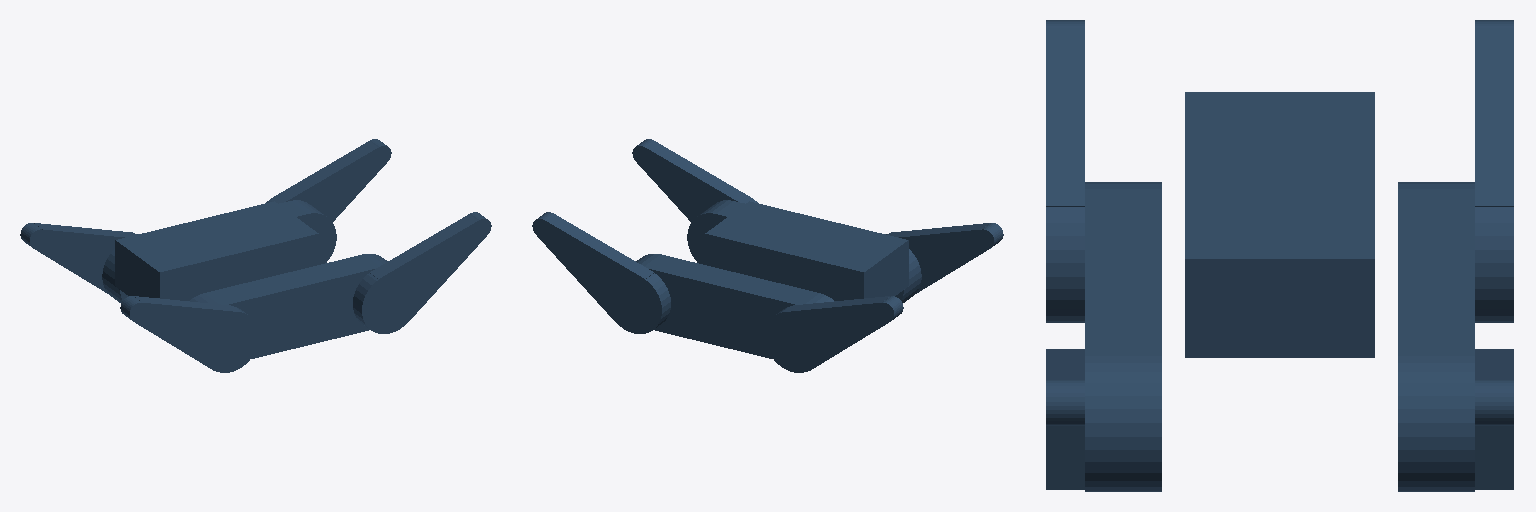
robot.urdf — lab_tracked:
<?xml version='1.0' encoding='utf-8'?>
<robot name="lab_tracked">
  <link name="base_footprint" />
  <joint name="footprint_fixed" type="fixed">
    <parent link="base_footprint" />
    <child link="base_link" />
    <origin xyz="0 0 .07192" rpy="0 0 0" />
  </joint>
  <link name="base_link">
    <inertial>
      <origin xyz="-0.122 0.0 0.118" rpy="1.5708 0.0 0.0" />
      <mass value="13.14" />
      <inertia ixx="0.10019" ixy="0" ixz="0" iyy="0.345043" iyz="0" izz="0.302044" />
    </inertial>
    <visual name="base_link_visual">
      <origin xyz="-0.122 0.0 0.118" rpy="0.0 0.0 0.0" />
      <geometry>
        <box size="0.50017 0.24093 0.139" />
      </geometry>
      <material name="base_link_visual_color">
        <color rgba=".25 .35 .45 1" />
      </material>
    </visual>
    <collision name="base_link_collision">
      <origin xyz="-0.122 0.0 0.118" rpy="0.0 0.0 0.0" />
      <geometry>
        <box size="0.50017 0.24093 0.139" />
      </geometry>
    </collision>
  </link>
  <link name="left_track">
    <inertial>
      <origin xyz="0.0 0.0 0.0141" rpy="0.0 0.0 0.0" />
      <mass value="6.06" />
      <inertia ixx="0.002731" ixy="0" ixz="0" iyy="0.032554" iyz="1.5e-05" izz="0.031391" />
    </inertial>
    <visual name="left_track_visual">
      <origin xyz="0.0 0.0 0.01855" rpy="1.5708 2.220446049250313e-16 1.5708" />
      <geometry>
        <box size="0.09728 0.18094 0.5" />
      </geometry>
      <material name="left_track_visual_color">
        <color rgba=".25 .35 .45 1" />
      </material>
    </visual>
    <visual name="left_track_visual_1">
      <origin xyz="0.25 0.0 0.01855" rpy="1.5708 0.0 0.0" />
      <geometry>
        <cylinder radius="0.09047" length="0.09728" />
      </geometry>
      <material name="left_track_visual_1_color">
        <color rgba=".25 .35 .45 1" />
      </material>
    </visual>
    <visual name="left_track_visual_2">
      <origin xyz="-0.25 0.0 0.01855" rpy="1.5708 0.0 0.0" />
      <geometry>
        <cylinder radius="0.09047" length="0.09728" />
      </geometry>
      <material name="left_track_visual_2_color">
        <color rgba=".25 .35 .45 1" />
      </material>
    </visual>
    <collision name="left_track_collision">
      <origin xyz="0.0 0.0 0.01855" rpy="1.5708 2.220446049250313e-16 1.5708" />
      <geometry>
        <box size="0.09728 0.18094 0.5" />
      </geometry>
    </collision>
    <collision name="left_track_collision_1">
      <origin xyz="0.25 0.0 0.01855" rpy="1.5708 0.0 0.0" />
      <geometry>
        <cylinder radius="0.09047" length="0.09728" />
      </geometry>
    </collision>
    <collision name="left_track_collision_2">
      <origin xyz="-0.25 0.0 0.01855" rpy="1.5708 0.0 0.0" />
      <geometry>
        <cylinder radius="0.09047" length="0.09728" />
      </geometry>
    </collision>
  </link>
  <link name="right_track">
    <inertial>
      <origin xyz="0.0 0.0 0.0141" rpy="0.0 0.0 0.0" />
      <mass value="6.06" />
      <inertia ixx="0.002731" ixy="0" ixz="0" iyy="0.032554" iyz="1.5e-05" izz="0.031391" />
    </inertial>
    <visual name="right_track_visual">
      <origin xyz="0.0 0.0 0.01855" rpy="1.5708 2.220446049250313e-16 1.5708" />
      <geometry>
        <box size="0.09728 0.18094 0.5" />
      </geometry>
      <material name="right_track_visual_color">
        <color rgba=".25 .35 .45 1" />
      </material>
    </visual>
    <visual name="right_track_visual_1">
      <origin xyz="0.25 0.0 0.01855" rpy="1.5708 0.0 0.0" />
      <geometry>
        <cylinder radius="0.09047" length="0.09728" />
      </geometry>
      <material name="right_track_visual_1_color">
        <color rgba=".25 .35 .45 1" />
      </material>
    </visual>
    <visual name="right_track_visual_2">
      <origin xyz="-0.25 0.0 0.01855" rpy="1.5708 0.0 0.0" />
      <geometry>
        <cylinder radius="0.09047" length="0.09728" />
      </geometry>
      <material name="right_track_visual_2_color">
        <color rgba=".25 .35 .45 1" />
      </material>
    </visual>
    <collision name="right_track_collision">
      <origin xyz="0.0 0.0 0.01855" rpy="1.5708 2.220446049250313e-16 1.5708" />
      <geometry>
        <box size="0.09728 0.18094 0.5" />
      </geometry>
    </collision>
    <collision name="right_track_collision_1">
      <origin xyz="0.25 0.0 0.01855" rpy="1.5708 0.0 0.0" />
      <geometry>
        <cylinder radius="0.09047" length="0.09728" />
      </geometry>
    </collision>
    <collision name="right_track_collision_2">
      <origin xyz="-0.25 0.0 0.01855" rpy="1.5708 0.0 0.0" />
      <geometry>
        <cylinder radius="0.09047" length="0.09728" />
      </geometry>
    </collision>
  </link>
  <link name="front_left_flipper">
    <inertial>
      <origin xyz="0.08 0.0 0.0" rpy="0.0 0.0 0.0" />
      <mass value="0.75" />
      <inertia ixx="0.0017491" ixy="2.8512e-07" ixz="0.0018277" iyy="0.012277" iyz="-3.6288e-07" izz="0.010941" />
    </inertial>
    <visual name="front_left_flipper_visual_large_wheel_visual">
      <origin xyz="0.0 0.0 0.0" rpy="1.5708 0.0 0.0" />
      <geometry>
        <cylinder radius="0.089" length="0.04981" />
      </geometry>
      <material name="front_left_flipper_visual_large_wheel_visual_color">
        <color rgba=".25 .35 .45 1" />
      </material>
    </visual>
    <visual name="front_left_flipper_visual_small_wheel_visual_1">
      <origin xyz="0.33 0.0 0.0" rpy="1.5708 0.0 0.0" />
      <geometry>
        <cylinder radius="0.029" length="0.04981" />
      </geometry>
      <material name="front_left_flipper_visual_small_wheel_visual_1_color">
        <color rgba=".25 .35 .45 1" />
      </material>
    </visual>
    <visual name="front_left_flipper_visual_top_bar_visual_2">
      <origin xyz="0.165 0.0 0.0325" rpy="0.0 0.18416199999999994 0.0" />
      <geometry>
        <box size="0.33 0.04981 0.055" />
      </geometry>
      <material name="front_left_flipper_visual_top_bar_visual_2_color">
        <color rgba=".25 .35 .45 1" />
      </material>
    </visual>
    <visual name="front_left_flipper_visual_bottom_bar_visual_3">
      <origin xyz="0.165 0.0 -0.0325" rpy="0.0 -0.18416199999999994 0.0" />
      <geometry>
        <box size="0.33 0.04981 0.055" />
      </geometry>
      <material name="front_left_flipper_visual_bottom_bar_visual_3_color">
        <color rgba=".25 .35 .45 1" />
      </material>
    </visual>
    <visual name="front_left_flipper_visual_middle_bar_visual_4">
      <origin xyz="0.166 0.0 0.004" rpy="0.0 -0.020000000000000018 0.0" />
      <geometry>
        <box size="0.2 0.04981 0.07" />
      </geometry>
      <material name="front_left_flipper_visual_middle_bar_visual_4_color">
        <color rgba=".25 .35 .45 1" />
      </material>
    </visual>
    <collision name="front_left_flipper_collision_large_wheel_collision">
      <origin xyz="0.0 0.0 0.0" rpy="1.5708 0.0 0.0" />
      <geometry>
        <cylinder radius="0.089" length="0.04981" />
      </geometry>
    </collision>
    <collision name="front_left_flipper_collision_small_wheel_collision_1">
      <origin xyz="0.33 0.0 0.0" rpy="1.5708 0.0 0.0" />
      <geometry>
        <cylinder radius="0.029" length="0.04981" />
      </geometry>
    </collision>
    <collision name="front_left_flipper_collision_top_bar_collision_2">
      <origin xyz="0.165 0.0 0.0325" rpy="0.0 0.18416199999999994 0.0" />
      <geometry>
        <box size="0.33 0.04981 0.055" />
      </geometry>
    </collision>
    <collision name="front_left_flipper_collision_bottom_bar_collision_3">
      <origin xyz="0.165 0.0 -0.0325" rpy="0.0 -0.18416199999999994 0.0" />
      <geometry>
        <box size="0.33 0.04981 0.055" />
      </geometry>
    </collision>
    <collision name="front_left_flipper_collision_middle_bar_collision_4">
      <origin xyz="0.166 0.0 0.004" rpy="0.0 -0.020000000000000018 0.0" />
      <geometry>
        <box size="0.2 0.04981 0.07" />
      </geometry>
    </collision>
  </link>
  <link name="rear_left_flipper">
    <inertial>
      <origin xyz="0.08 0.0 0.0" rpy="0.0 0.0 0.0" />
      <mass value="0.75" />
      <inertia ixx="0.0017491" ixy="2.8512e-07" ixz="0.0018277" iyy="0.012277" iyz="-3.6288e-07" izz="0.010941" />
    </inertial>
    <visual name="rear_left_flipper_visual_large_wheel_visual">
      <origin xyz="0.0 0.0 0.0" rpy="1.5708 0.0 0.0" />
      <geometry>
        <cylinder radius="0.089" length="0.04981" />
      </geometry>
      <material name="rear_left_flipper_visual_large_wheel_visual_color">
        <color rgba=".25 .35 .45 1" />
      </material>
    </visual>
    <visual name="rear_left_flipper_visual_small_wheel_visual_1">
      <origin xyz="0.33 0.0 0.0" rpy="1.5708 0.0 0.0" />
      <geometry>
        <cylinder radius="0.029" length="0.04981" />
      </geometry>
      <material name="rear_left_flipper_visual_small_wheel_visual_1_color">
        <color rgba=".25 .35 .45 1" />
      </material>
    </visual>
    <visual name="rear_left_flipper_visual_top_bar_visual_2">
      <origin xyz="0.165 0.0 0.0325" rpy="0.0 0.18416199999999994 0.0" />
      <geometry>
        <box size="0.33 0.04981 0.055" />
      </geometry>
      <material name="rear_left_flipper_visual_top_bar_visual_2_color">
        <color rgba=".25 .35 .45 1" />
      </material>
    </visual>
    <visual name="rear_left_flipper_visual_bottom_bar_visual_3">
      <origin xyz="0.165 0.0 -0.0325" rpy="0.0 -0.18416199999999994 0.0" />
      <geometry>
        <box size="0.33 0.04981 0.055" />
      </geometry>
      <material name="rear_left_flipper_visual_bottom_bar_visual_3_color">
        <color rgba=".25 .35 .45 1" />
      </material>
    </visual>
    <visual name="rear_left_flipper_visual_middle_bar_visual_4">
      <origin xyz="0.166 0.0 0.004" rpy="0.0 -0.020000000000000018 0.0" />
      <geometry>
        <box size="0.2 0.04981 0.07" />
      </geometry>
      <material name="rear_left_flipper_visual_middle_bar_visual_4_color">
        <color rgba=".25 .35 .45 1" />
      </material>
    </visual>
    <collision name="rear_left_flipper_collision_large_wheel_collision">
      <origin xyz="0.0 0.0 0.0" rpy="1.5708 0.0 0.0" />
      <geometry>
        <cylinder radius="0.089" length="0.04981" />
      </geometry>
    </collision>
    <collision name="rear_left_flipper_collision_small_wheel_collision_1">
      <origin xyz="0.33 0.0 0.0" rpy="1.5708 0.0 0.0" />
      <geometry>
        <cylinder radius="0.029" length="0.04981" />
      </geometry>
    </collision>
    <collision name="rear_left_flipper_collision_top_bar_collision_2">
      <origin xyz="0.165 0.0 0.0325" rpy="0.0 0.18416199999999994 0.0" />
      <geometry>
        <box size="0.33 0.04981 0.055" />
      </geometry>
    </collision>
    <collision name="rear_left_flipper_collision_bottom_bar_collision_3">
      <origin xyz="0.165 0.0 -0.0325" rpy="0.0 -0.18416199999999994 0.0" />
      <geometry>
        <box size="0.33 0.04981 0.055" />
      </geometry>
    </collision>
    <collision name="rear_left_flipper_collision_middle_bar_collision_4">
      <origin xyz="0.166 0.0 0.004" rpy="0.0 -0.020000000000000018 0.0" />
      <geometry>
        <box size="0.2 0.04981 0.07" />
      </geometry>
    </collision>
  </link>
  <link name="front_right_flipper">
    <inertial>
      <origin xyz="-0.08 0.0 0.0" rpy="0.0 0.0 0.0" />
      <mass value="0.75" />
      <inertia ixx="0.0017491" ixy="2.8512e-07" ixz="0.0018277" iyy="0.012277" iyz="-3.6288e-07" izz="0.010941" />
    </inertial>
    <visual name="front_right_flipper_visual_large_wheel_visual">
      <origin xyz="0.0 0.0 0.0" rpy="1.5708 0.0 0.0" />
      <geometry>
        <cylinder radius="0.089" length="0.04981" />
      </geometry>
      <material name="front_right_flipper_visual_large_wheel_visual_color">
        <color rgba=".25 .35 .45 1" />
      </material>
    </visual>
    <visual name="front_right_flipper_visual_small_wheel_visual_1">
      <origin xyz="-0.33 0.0 0.0" rpy="1.5708 0.0 0.0" />
      <geometry>
        <cylinder radius="0.029" length="0.04981" />
      </geometry>
      <material name="front_right_flipper_visual_small_wheel_visual_1_color">
        <color rgba=".25 .35 .45 1" />
      </material>
    </visual>
    <visual name="front_right_flipper_visual_top_bar_visual_2">
      <origin xyz="-0.165 0.0 0.0325" rpy="0.0 0.18416200000000016 -3.1415899999999994" />
      <geometry>
        <box size="0.33 0.04981 0.055" />
      </geometry>
      <material name="front_right_flipper_visual_top_bar_visual_2_color">
        <color rgba=".25 .35 .45 1" />
      </material>
    </visual>
    <visual name="front_right_flipper_visual_bottom_bar_visual_3">
      <origin xyz="-0.165 0.0 -0.0325" rpy="0.0 -0.18416199999999994 -3.1415899999999994" />
      <geometry>
        <box size="0.33 0.04981 0.055" />
      </geometry>
      <material name="front_right_flipper_visual_bottom_bar_visual_3_color">
        <color rgba=".25 .35 .45 1" />
      </material>
    </visual>
    <visual name="front_right_flipper_visual_middle_bar_visual_4">
      <origin xyz="-0.166 0.0 0.004" rpy="0.0 -0.019999999999999796 -3.1415899999999994" />
      <geometry>
        <box size="0.2 0.04981 0.07" />
      </geometry>
      <material name="front_right_flipper_visual_middle_bar_visual_4_color">
        <color rgba=".25 .35 .45 1" />
      </material>
    </visual>
    <collision name="front_right_flipper_collision_large_wheel_collision">
      <origin xyz="0.0 0.0 0.0" rpy="1.5708 0.0 0.0" />
      <geometry>
        <cylinder radius="0.089" length="0.04981" />
      </geometry>
    </collision>
    <collision name="front_right_flipper_collision_small_wheel_collision_1">
      <origin xyz="-0.33 0.0 0.0" rpy="1.5708 0.0 0.0" />
      <geometry>
        <cylinder radius="0.029" length="0.04981" />
      </geometry>
    </collision>
    <collision name="front_right_flipper_collision_top_bar_collision_2">
      <origin xyz="-0.165 0.0 0.0325" rpy="0.0 0.18416200000000016 -3.1415899999999994" />
      <geometry>
        <box size="0.33 0.04981 0.055" />
      </geometry>
    </collision>
    <collision name="front_right_flipper_collision_bottom_bar_collision_3">
      <origin xyz="-0.165 0.0 -0.0325" rpy="0.0 -0.18416199999999994 -3.1415899999999994" />
      <geometry>
        <box size="0.33 0.04981 0.055" />
      </geometry>
    </collision>
    <collision name="front_right_flipper_collision_middle_bar_collision_4">
      <origin xyz="-0.166 0.0 0.004" rpy="0.0 -0.019999999999999796 -3.1415899999999994" />
      <geometry>
        <box size="0.2 0.04981 0.07" />
      </geometry>
    </collision>
  </link>
  <link name="rear_right_flipper">
    <inertial>
      <origin xyz="-0.08 0.0 0.0" rpy="0.0 0.0 0.0" />
      <mass value="0.75" />
      <inertia ixx="0.0017491" ixy="2.8512e-07" ixz="0.0018277" iyy="0.012277" iyz="-3.6288e-07" izz="0.010941" />
    </inertial>
    <visual name="rear_right_flipper_visual_large_wheel_visual">
      <origin xyz="0.0 0.0 0.0" rpy="1.5708 0.0 0.0" />
      <geometry>
        <cylinder radius="0.089" length="0.04981" />
      </geometry>
      <material name="rear_right_flipper_visual_large_wheel_visual_color">
        <color rgba=".25 .35 .45 1" />
      </material>
    </visual>
    <visual name="rear_right_flipper_visual_small_wheel_visual_1">
      <origin xyz="-0.33 0.0 0.0" rpy="1.5708 0.0 0.0" />
      <geometry>
        <cylinder radius="0.029" length="0.04981" />
      </geometry>
      <material name="rear_right_flipper_visual_small_wheel_visual_1_color">
        <color rgba=".25 .35 .45 1" />
      </material>
    </visual>
    <visual name="rear_right_flipper_visual_top_bar_visual_2">
      <origin xyz="-0.165 0.0 0.0325" rpy="0.0 0.18416200000000016 -3.1415899999999994" />
      <geometry>
        <box size="0.33 0.04981 0.055" />
      </geometry>
      <material name="rear_right_flipper_visual_top_bar_visual_2_color">
        <color rgba=".25 .35 .45 1" />
      </material>
    </visual>
    <visual name="rear_right_flipper_visual_bottom_bar_visual_3">
      <origin xyz="-0.165 0.0 -0.0325" rpy="0.0 -0.18416199999999994 -3.1415899999999994" />
      <geometry>
        <box size="0.33 0.04981 0.055" />
      </geometry>
      <material name="rear_right_flipper_visual_bottom_bar_visual_3_color">
        <color rgba=".25 .35 .45 1" />
      </material>
    </visual>
    <visual name="rear_right_flipper_visual_middle_bar_visual_4">
      <origin xyz="-0.166 0.0 0.004" rpy="0.0 -0.019999999999999796 -3.1415899999999994" />
      <geometry>
        <box size="0.2 0.04981 0.07" />
      </geometry>
      <material name="rear_right_flipper_visual_middle_bar_visual_4_color">
        <color rgba=".25 .35 .45 1" />
      </material>
    </visual>
    <collision name="rear_right_flipper_collision_large_wheel_collision">
      <origin xyz="0.0 0.0 0.0" rpy="1.5708 0.0 0.0" />
      <geometry>
        <cylinder radius="0.089" length="0.04981" />
      </geometry>
    </collision>
    <collision name="rear_right_flipper_collision_small_wheel_collision_1">
      <origin xyz="-0.33 0.0 0.0" rpy="1.5708 0.0 0.0" />
      <geometry>
        <cylinder radius="0.029" length="0.04981" />
      </geometry>
    </collision>
    <collision name="rear_right_flipper_collision_top_bar_collision_2">
      <origin xyz="-0.165 0.0 0.0325" rpy="0.0 0.18416200000000016 -3.1415899999999994" />
      <geometry>
        <box size="0.33 0.04981 0.055" />
      </geometry>
    </collision>
    <collision name="rear_right_flipper_collision_bottom_bar_collision_3">
      <origin xyz="-0.165 0.0 -0.0325" rpy="0.0 -0.18416199999999994 -3.1415899999999994" />
      <geometry>
        <box size="0.33 0.04981 0.055" />
      </geometry>
    </collision>
    <collision name="rear_right_flipper_collision_middle_bar_collision_4">
      <origin xyz="-0.166 0.0 0.004" rpy="0.0 -0.019999999999999796 -3.1415899999999994" />
      <geometry>
        <box size="0.2 0.04981 0.07" />
      </geometry>
    </collision>
  </link>
  <joint name="left_track_j" type="fixed">
    <parent link="base_link" />
    <child link="left_track" />
    <origin xyz="0.0 0.1985 0.0" rpy="0.0 0.0 0.0" />
  </joint>
  <joint name="right_track_j" type="fixed">
    <parent link="base_link" />
    <child link="right_track" />
    <origin xyz="0.0 -0.1985 0.0" rpy="0.0 0.0 0.0" />
  </joint>
  <joint name="front_left_flipper_j" type="revolute">
    <parent link="left_track" />
    <child link="front_left_flipper" />
    <origin xyz="0.25 0.07350000000000001 0.0195" rpy="0.0 -0.5 0.0" />
    <axis xyz="0 1 0" />
    <limit lower="0" upper="0" effort="25" velocity="1" />
  </joint>
  <joint name="rear_left_flipper_j" type="revolute">
    <parent link="left_track" />
    <child link="rear_left_flipper" />
    <origin xyz="-0.25 0.07350000000000001 0.0195" rpy="3.14159 -0.5 3.14159" />
    <axis xyz="0 1 0" />
    <limit lower="0" upper="0" effort="25" velocity="1" />
  </joint>
  <joint name="front_right_flipper_j" type="revolute">
    <parent link="right_track" />
    <child link="front_right_flipper" />
    <origin xyz="0.25 -0.07350000000000001 0.0195" rpy="3.14159 0.5 3.14159" />
    <axis xyz="0 1 0" />
    <limit lower="0" upper="0" effort="25" velocity="1" />
  </joint>
  <joint name="rear_right_flipper_j" type="revolute">
    <parent link="right_track" />
    <child link="rear_right_flipper" />
    <origin xyz="-0.25 -0.07350000000000001 0.0195" rpy="0.0 0.5 0.0" />
    <axis xyz="0 1 0" />
    <limit lower="0" upper="0" effort="25" velocity="1" />
  </joint>
</robot>

--- What the picture shows (computed from the rendered views, not written in the file) ---
The picture shows the robot from 3 angles, left to right: view 1: azimuth 30°, elevation 25°; view 2: azimuth 150°, elevation 25°; view 3: azimuth 270°, elevation 25°; orthographic projection.
Robot: lab_tracked — 8 links, 7 joints (4 revolute, 3 fixed); root link base_footprint; default pose: all joints at 0.
Links seen in each view (by area): view 1: base_link, right_track, front_right_flipper, rear_right_flipper, front_left_flipper, rear_left_flipper, left_track; view 2: base_link, left_track, front_left_flipper, rear_left_flipper, front_right_flipper, rear_right_flipper, right_track; view 3: base_link, left_track, right_track, rear_left_flipper, rear_right_flipper, front_left_flipper, front_right_flipper.
Boxes of the visible links, bbox=[...] form: base_link: bbox=[115, 201, 318, 300]; right_track: bbox=[190, 254, 387, 358]; front_right_flipper: bbox=[353, 212, 491, 333]; rear_right_flipper: bbox=[120, 296, 258, 372]; front_left_flipper: bbox=[266, 139, 391, 221]; rear_left_flipper: bbox=[20, 223, 137, 293]; left_track: bbox=[102, 200, 336, 302]; base_link: bbox=[705, 201, 908, 300]; left_track: bbox=[636, 254, 833, 358]; front_left_flipper: bbox=[532, 212, 670, 333]; rear_left_flipper: bbox=[765, 296, 903, 372]; front_right_flipper: bbox=[632, 139, 757, 221]; rear_right_flipper: bbox=[886, 223, 1003, 293]; right_track: bbox=[687, 200, 921, 302]; base_link: bbox=[1185, 92, 1374, 357]; left_track: bbox=[1398, 182, 1474, 491]; right_track: bbox=[1085, 182, 1161, 491]; rear_left_flipper: bbox=[1475, 20, 1513, 322]; rear_right_flipper: bbox=[1046, 20, 1084, 322]; front_left_flipper: bbox=[1475, 349, 1513, 489]; front_right_flipper: bbox=[1046, 349, 1084, 489].
Bounding box of the posed robot: 1.14 × 0.5938 × 0.2785 m (x, y, z).
Geometry: primitives only (box / cylinder / sphere), no mesh files.
